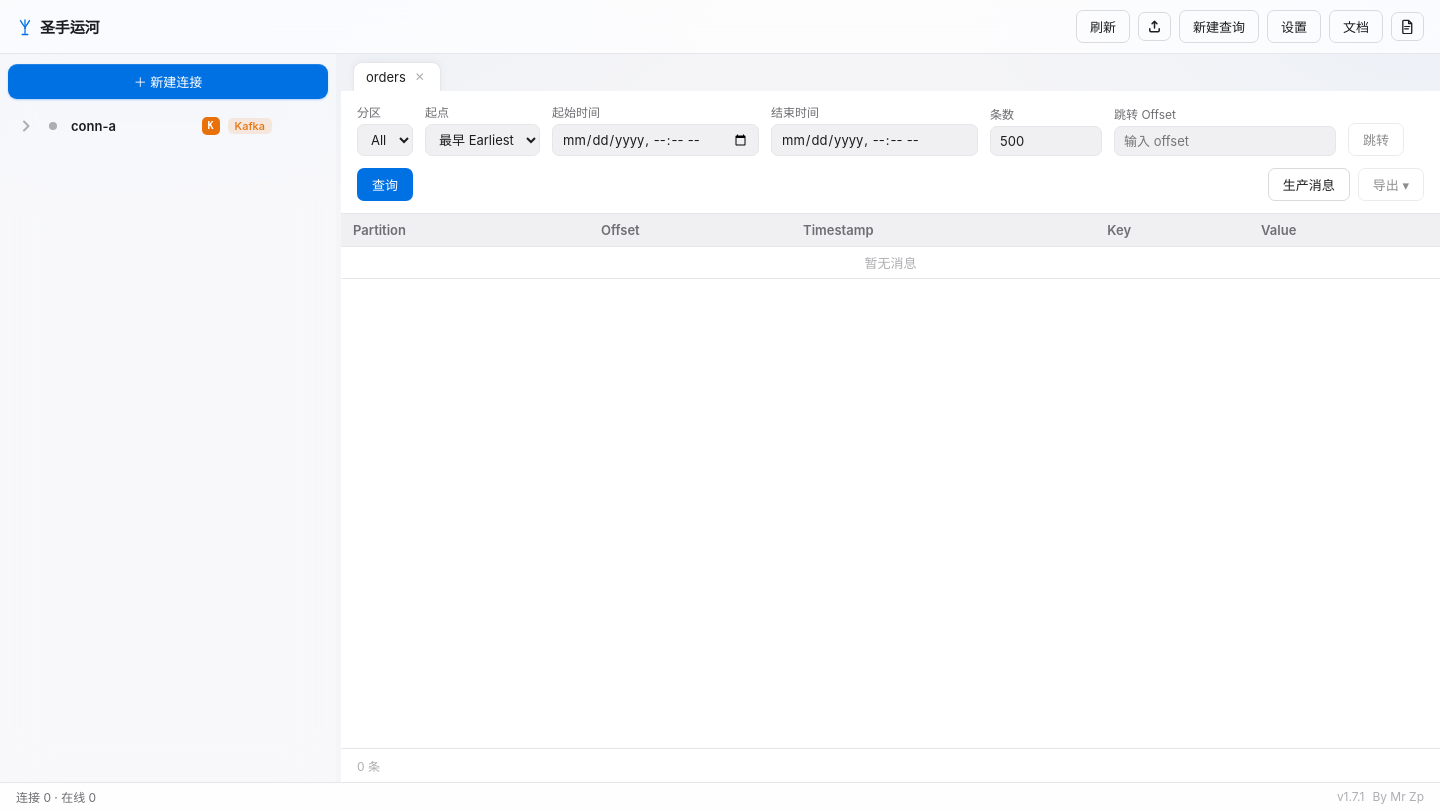
Test: Layout › opens a context menu on right-click with close / close-others / close-all / refresh
Right-click the element with test id "tab" at coordinates (397, 76), box [353, 62, 441, 91]
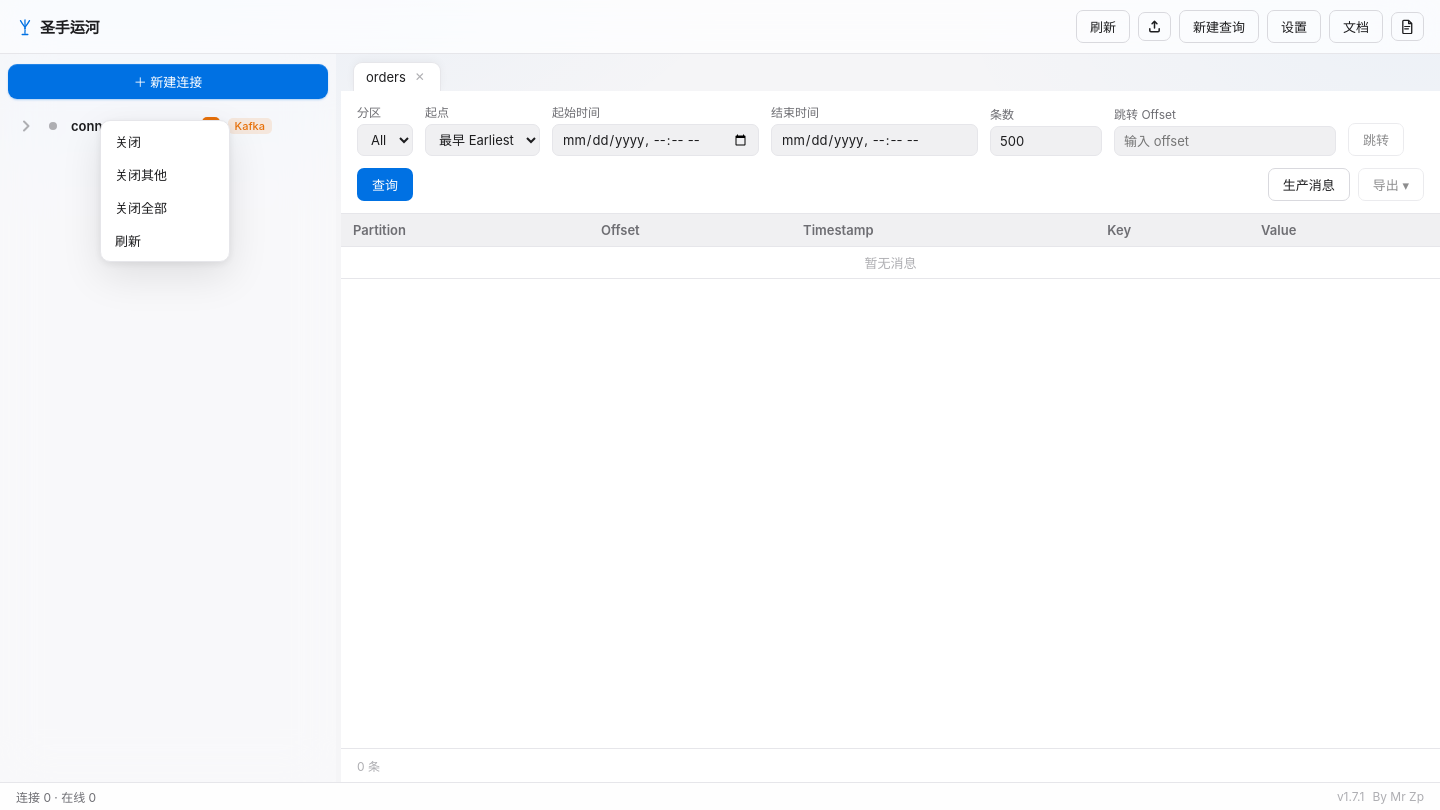
Result: the element with test id "tab-context-menu" is shown at [100, 120, 230, 262]
Result: the button with test id "context-close" is shown at [105, 125, 225, 158]
Result: the button with test id "context-close-others" is shown at [105, 158, 225, 191]
